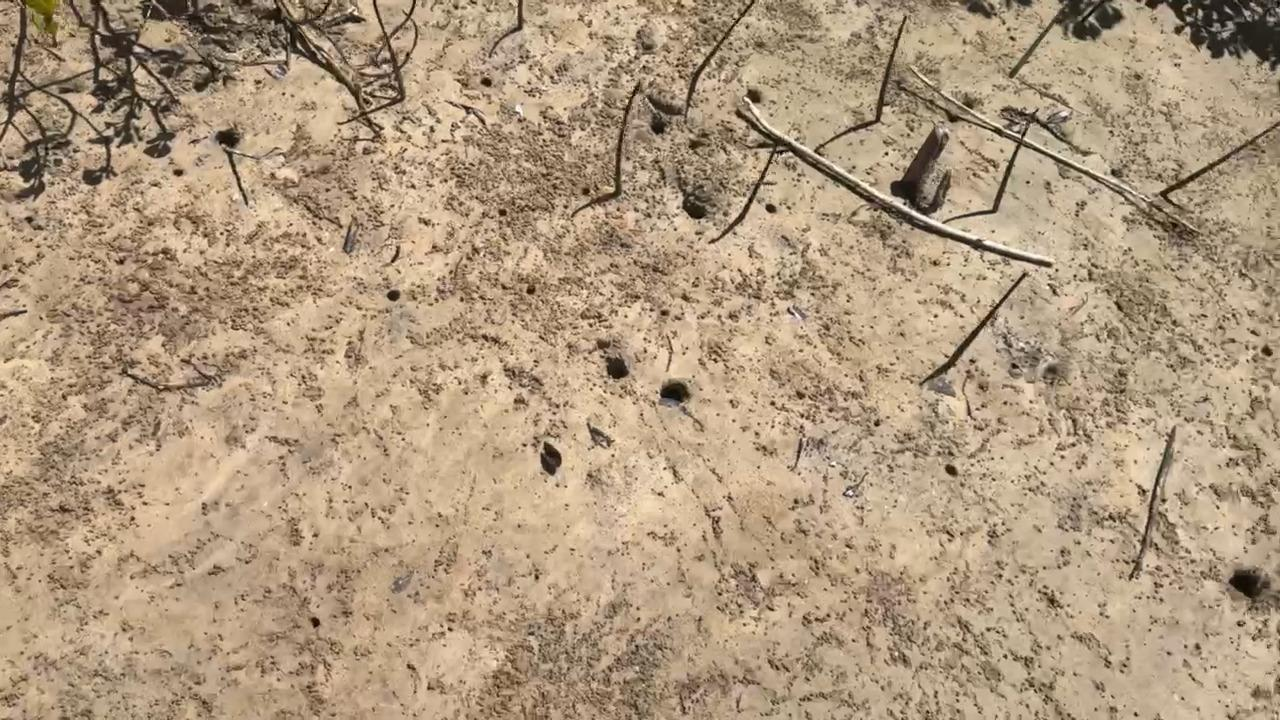Tree: (1159, 119, 1280, 198), (947, 271, 1028, 370), (991, 108, 1039, 214), (693, 0, 756, 78), (1008, 3, 1061, 78), (874, 15, 908, 123), (372, 0, 407, 102), (614, 81, 641, 196), (747, 140, 778, 207), (516, 0, 523, 30)
